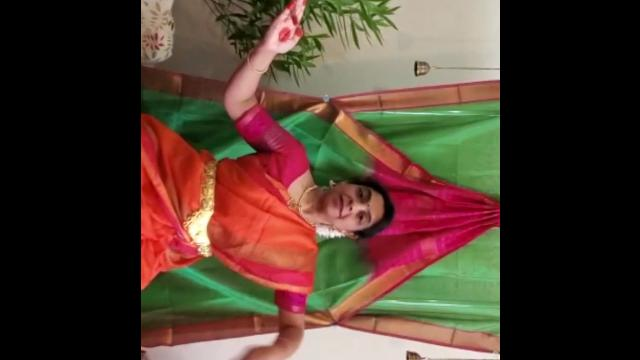tripataka: (254, 0, 313, 69)
